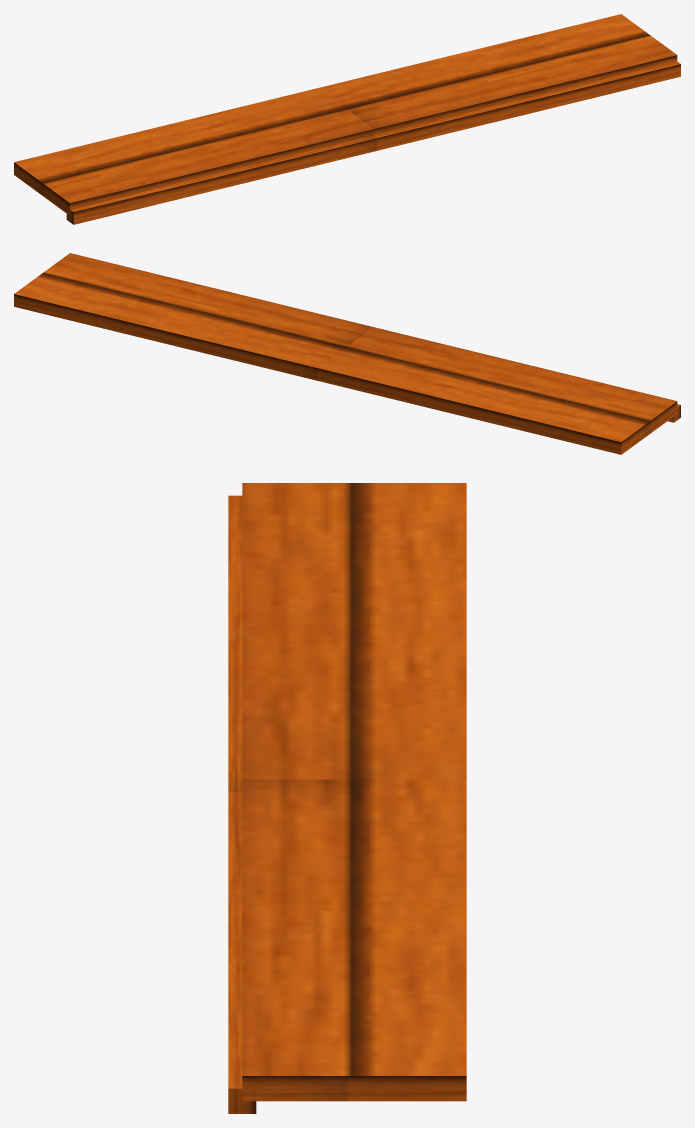
The model's file is Door_Threshold.fbx.
3 renders of one model, top to bottom at view 1: azimuth 30°, elevation 25°; view 2: azimuth 150°, elevation 25°; view 3: azimuth 270°, elevation 25°, orthographic. The views are drawn at different scales.
Parts seen in each view (by area): view 1: Door_Threshold; view 2: Door_Threshold; view 3: Door_Threshold.
Part boxes in pixels (left/top/right/bottom): Door_Threshold: left=14, top=14, right=680, bottom=224; Door_Threshold: left=14, top=253, right=680, bottom=454; Door_Threshold: left=228, top=483, right=466, bottom=1113.
Bounding box in the file's own units: 1 × 0.03 × 0.17.
